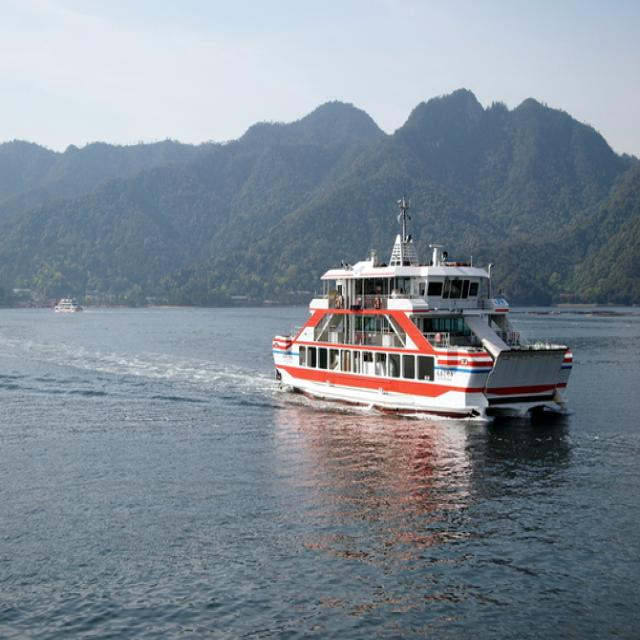houseboat: (264, 209, 572, 440)
